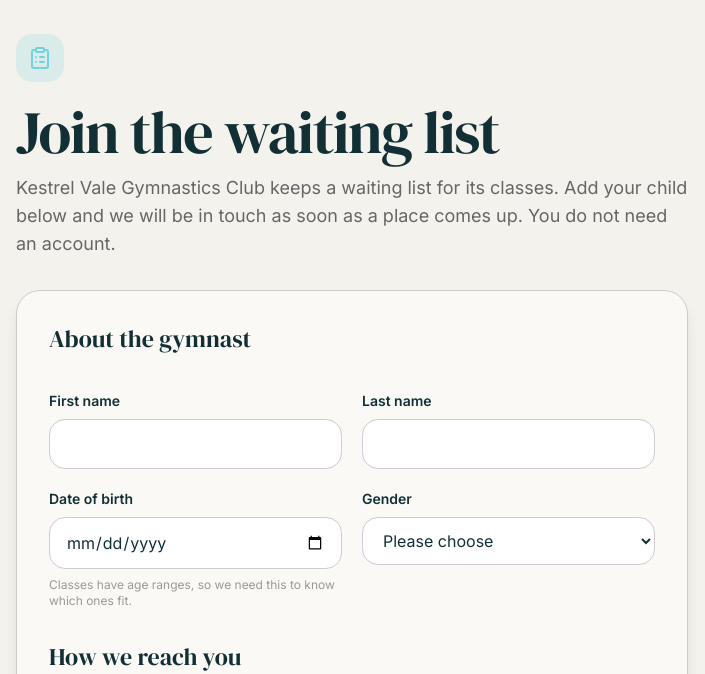
it: Public join page › says so plainly when a resubmit finds the child already on the list
The width and height of the screenshot is (705, 674).
Type "Priya" into the field labelled "First name" at (196, 444), box [49,419,342,469]
Type "Nandra" into the field labelled "Last name" at (508, 444), box [362,419,655,469]
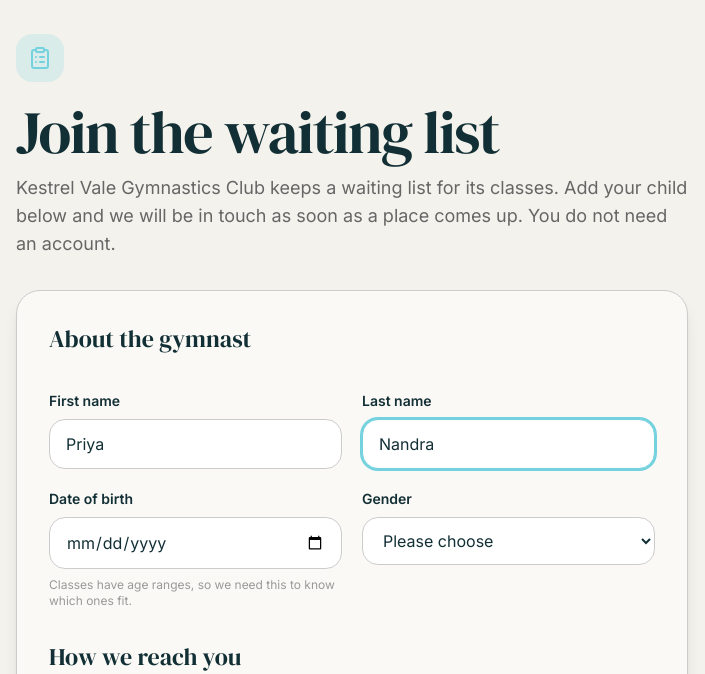
Type "2018-03-01" into the date field labelled "Date of birth" at (196, 543), box [49,517,342,569]
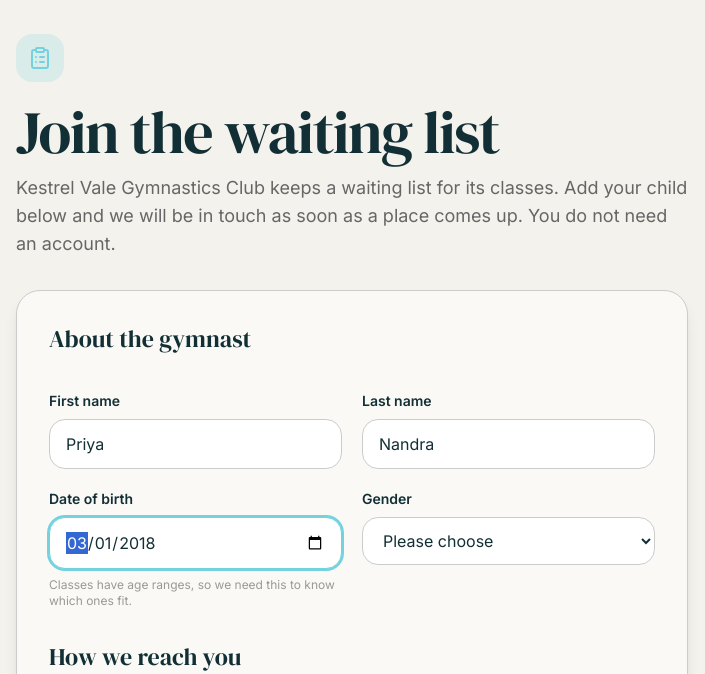
Select "Female" in the dropdown labelled "Gender" at (508, 541), box [362,517,655,565]
(page scrolled)
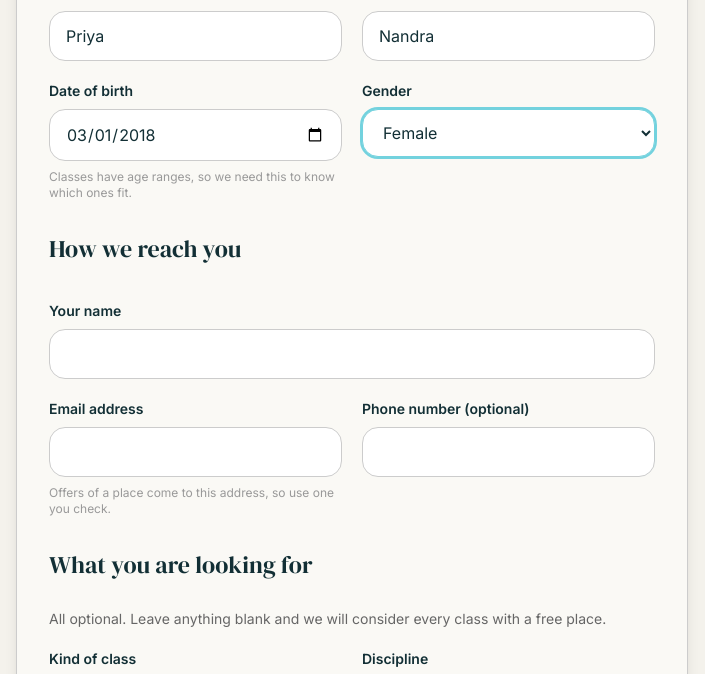
Type "Anita Nandra" into the field labelled "Your name" at (352, 354), box [49,329,655,379]
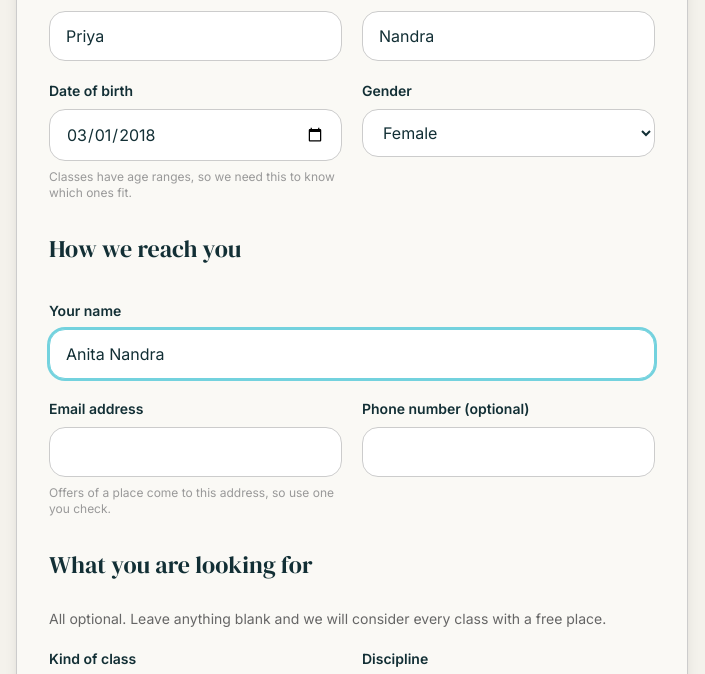
Type "anita@example.com" into the field labelled "Email address" at (196, 452), box [49,427,342,477]
(page scrolled)
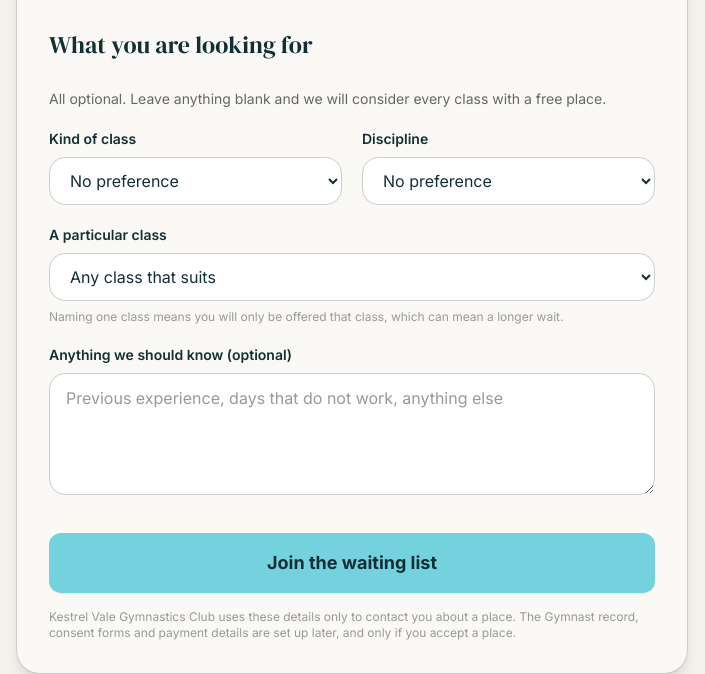
Click the button "Join the waiting list" at (352, 563), box [49,533,655,593]
(page scrolled)
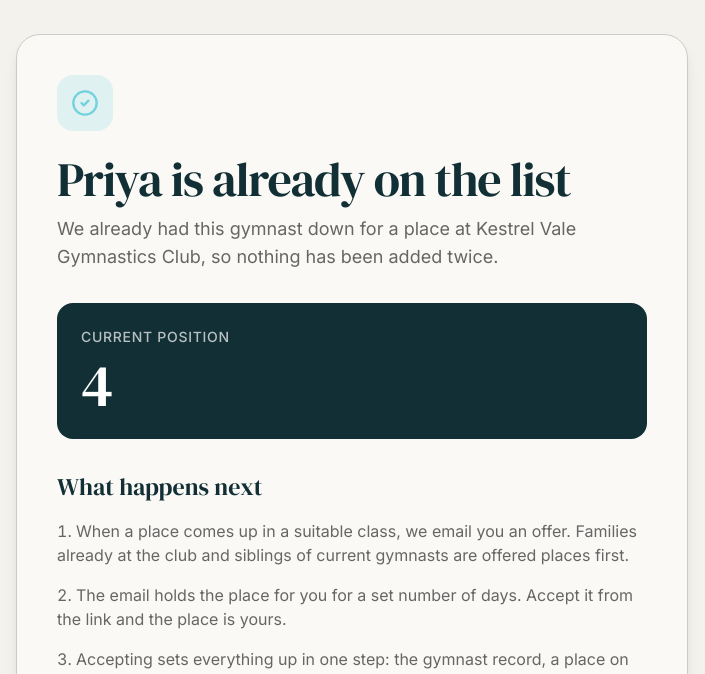
Expected: the heading "Priya is already on the list" is shown, [57,155,647,203]
